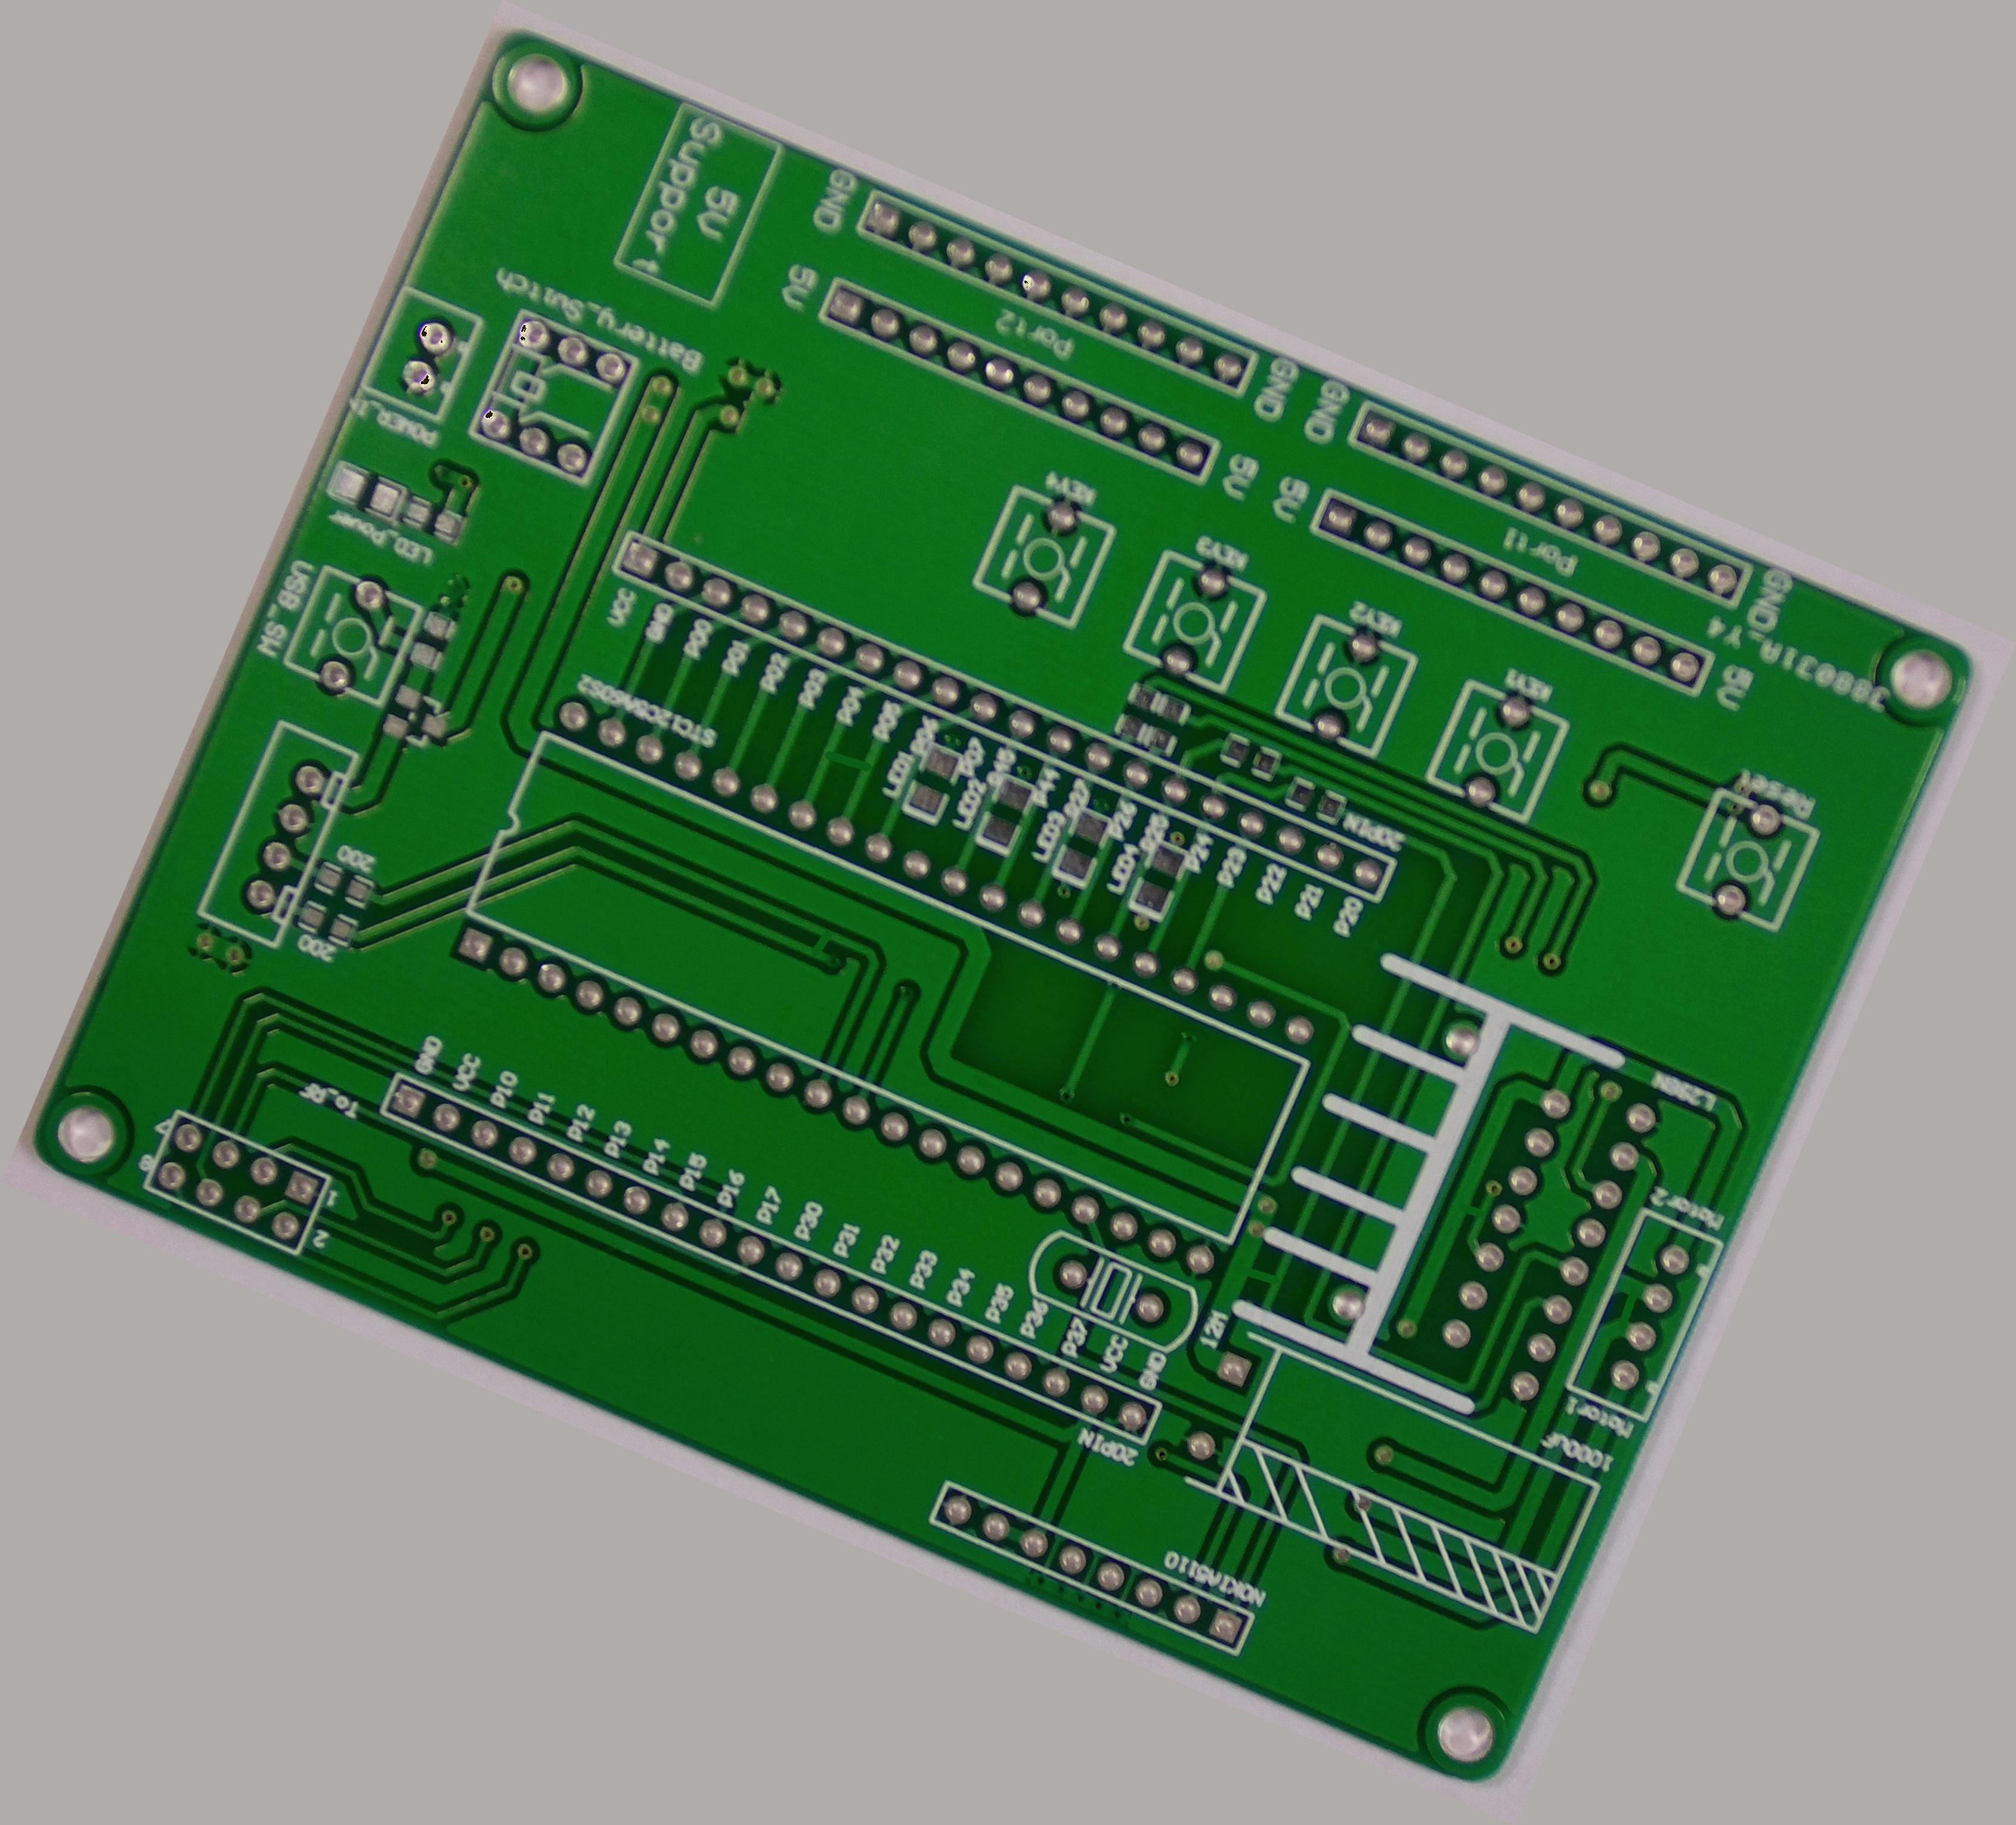short: (1595, 1272, 1665, 1347), (806, 731, 885, 794), (1220, 1245, 1291, 1307), (1440, 1184, 1501, 1240), (794, 917, 848, 970)
